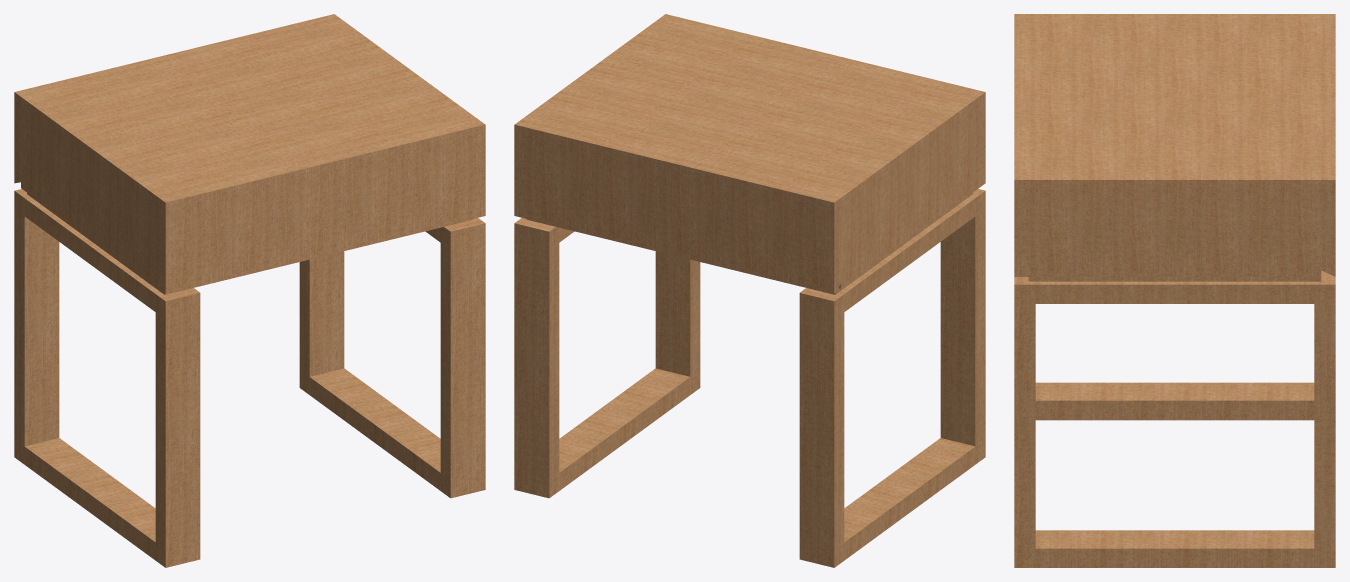
3 views of the same model, side by side, from view 1: azimuth 30°, elevation 25°; view 2: azimuth 150°, elevation 25°; view 3: azimuth 270°, elevation 25° (orthographic). The views are drawn at different scales.
Parts seen in each view (by area): view 1: mesh1_mesh1-geometry; view 2: mesh1_mesh1-geometry; view 3: mesh1_mesh1-geometry.
Part boxes in pixels (x1,y1,x2,y2): mesh1_mesh1-geometry: (14, 14, 485, 567); mesh1_mesh1-geometry: (514, 14, 985, 567); mesh1_mesh1-geometry: (1014, 14, 1335, 567).
Bounding box in the file's own units: 0.5914 × 0.6451 × 0.4838.
2 materials, 1 textured.
